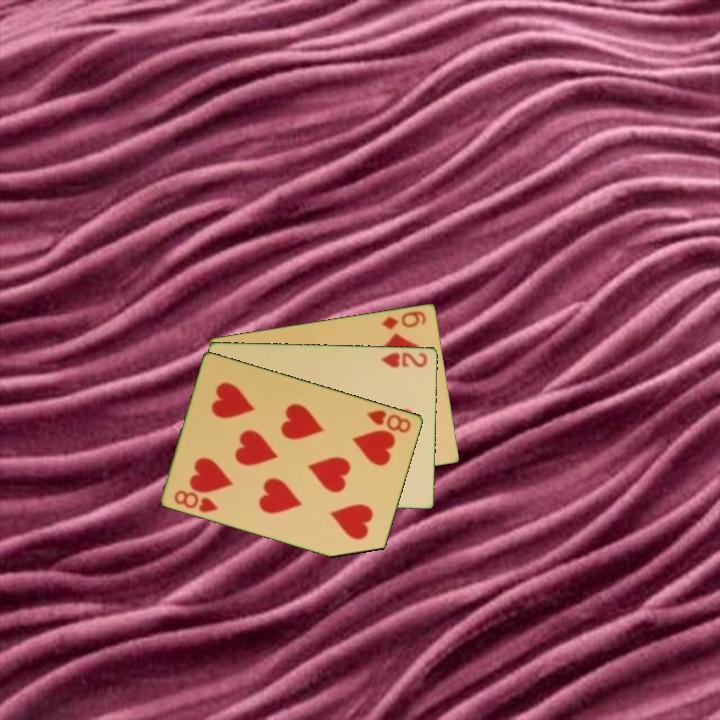2h: (378, 348, 431, 370)
6d: (378, 307, 429, 332)
8h: (364, 406, 414, 435), (171, 486, 221, 515)
